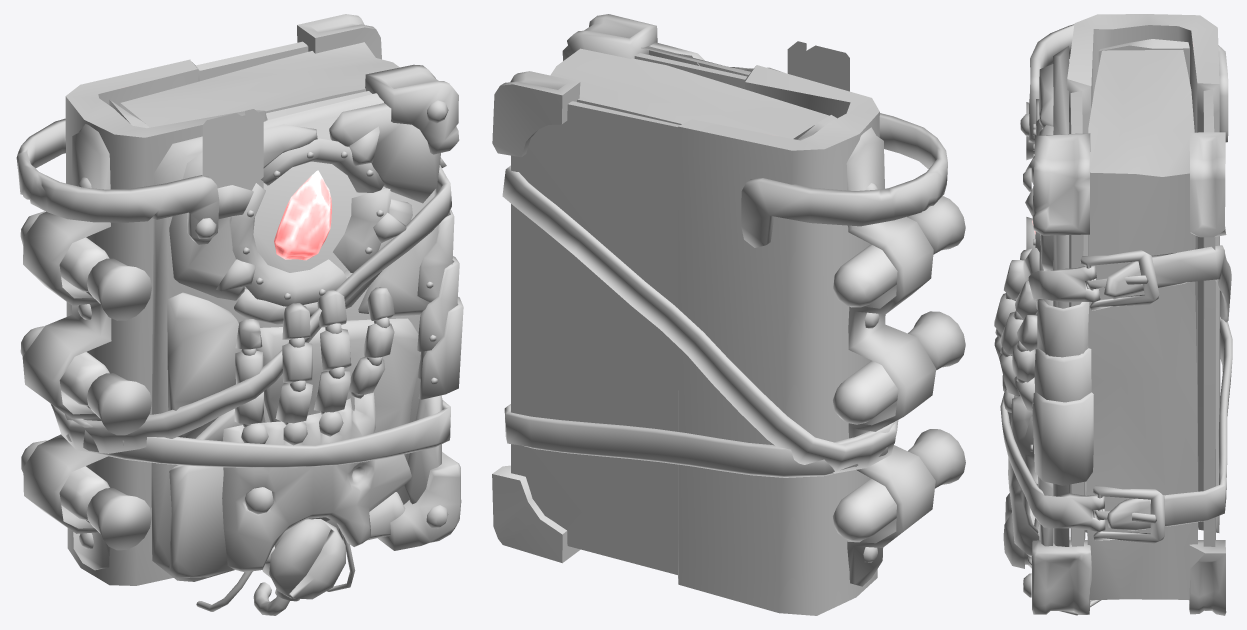
Rendered from firemagicbook.fbx.
The picture shows the model from 3 angles, left to right: view 1: azimuth 30°, elevation 25°; view 2: azimuth 150°, elevation 25°; view 3: azimuth 270°, elevation 25°; orthographic projection. The views are drawn at different scales.
Parts seen in each view (by area): view 1: tombstone_low.001, cover_low.001, holder_low.001, heand_low.001, fingers_low.001, paper_low.001, Ring_low.001, bracket_low.001, cornerUp_low.001, belt01_low.001, belt02_low.001, stopper_low.001 (+12 smaller); view 2: cover_low.001, holder_low.001, belt02_low.001, paper_low.001, bracket_low.001, belt01_low.001, cornerLow_low.001, liqued_low, stopper_low.001, cornerUp_low.001, Plane.022, tombstone_low.001; view 3: paper_low.001, cover_low.001, shell_low.001, cornerUp_low.001, belt01_low.001, cornerLow_low.001, belt02_low.001, fingers_low.001, tombstone_low.001, heand_low.001, bracket_low.001, prej02_low.001 (+5 smaller).
Boxes of the visible parts, bbox=[...] form: tombstone_low.001: bbox=[151, 93, 443, 581]; cover_low.001: bbox=[65, 41, 371, 585]; holder_low.001: bbox=[22, 124, 111, 570]; heand_low.001: bbox=[222, 392, 411, 572]; fingers_low.001: bbox=[234, 287, 394, 424]; paper_low.001: bbox=[120, 42, 399, 127]; Ring_low.001: bbox=[230, 138, 390, 306]; bracket_low.001: bbox=[16, 118, 219, 244]; cornerUp_low.001: bbox=[365, 64, 461, 550]; belt01_low.001: bbox=[65, 400, 450, 467]; belt02_low.001: bbox=[50, 157, 451, 453]; stopper_low.001: bbox=[86, 258, 151, 550]; cover_low.001: bbox=[511, 53, 879, 615]; holder_low.001: bbox=[846, 127, 936, 586]; belt02_low.001: bbox=[502, 165, 898, 473]; paper_low.001: bbox=[550, 48, 828, 139]; bracket_low.001: bbox=[741, 113, 947, 247]; belt01_low.001: bbox=[504, 404, 897, 477]; cornerLow_low.001: bbox=[492, 71, 580, 563]; liqued_low: bbox=[833, 244, 898, 541]; stopper_low.001: bbox=[907, 196, 965, 488]; cornerUp_low.001: bbox=[562, 14, 657, 60]; Plane.022: bbox=[787, 41, 849, 91]; tombstone_low.001: bbox=[641, 42, 782, 76]; paper_low.001: bbox=[1086, 50, 1197, 600]; cover_low.001: bbox=[1067, 14, 1220, 546]; shell_low.001: bbox=[1030, 299, 1093, 485]; cornerUp_low.001: bbox=[1023, 133, 1091, 614]; belt01_low.001: bbox=[1000, 317, 1232, 531]; cornerLow_low.001: bbox=[1189, 132, 1226, 615]; belt02_low.001: bbox=[1028, 245, 1231, 322]; fingers_low.001: bbox=[994, 248, 1037, 412]; tombstone_low.001: bbox=[1038, 46, 1069, 546]; heand_low.001: bbox=[1007, 396, 1039, 557]; bracket_low.001: bbox=[1020, 24, 1228, 142]; prej02_low.001: bbox=[1080, 250, 1159, 310].
Size of the model in its own units: 194 by 239 by 98.67.
